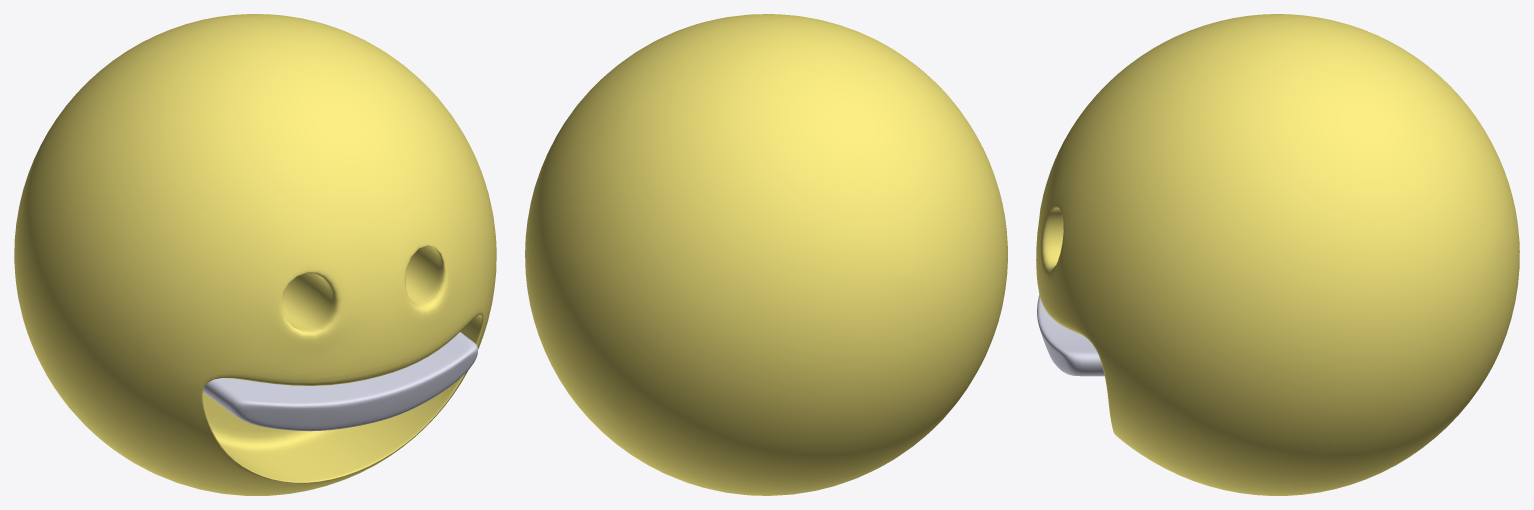
Rendered from 01_happy.glb.
3 renders of one model, left to right at view 1: azimuth 30°, elevation 25°; view 2: azimuth 150°, elevation 25°; view 3: azimuth 270°, elevation 25°, orthographic.
Parts seen in each view (by area): view 1: Group13146, Group47597; view 2: Group13146; view 3: Group13146, Group47597.
Boxes of the visible parts, x1,y1,x2,y2 form: Group13146: (14,14,496,495); Group47597: (203,332,477,431); Group13146: (525,14,1007,495); Group13146: (1036,14,1519,495); Group47597: (1037,295,1104,376).
Size of the model in its own units: 0.5495 by 0.5489 by 0.5513.
